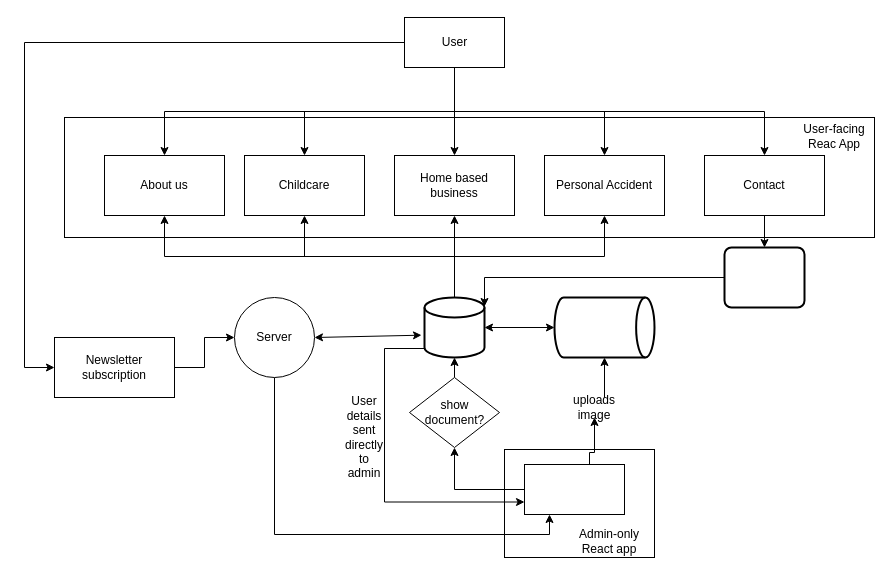
The diagram is 892 pixels wide and 575 high, and some of its shapes have lost their labels. Here are the shapes that lost their labels. From the top down, the centre of each, then its label:
At (764,277): "Form sent".
At (454,327): "MongoDB".
At (604,327): "S3".
At (574,489): "Admin".
